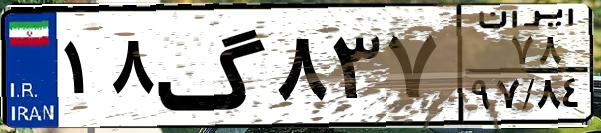1: (57, 26, 110, 100)
3: (330, 28, 385, 110)
4: (560, 70, 590, 125)
7: (385, 28, 445, 110), (508, 27, 537, 80), (495, 70, 520, 125)
8: (270, 28, 330, 110), (110, 28, 156, 98), (537, 27, 568, 80), (535, 70, 560, 125)
9: (470, 70, 495, 125)
گ: (156, 12, 270, 120)
